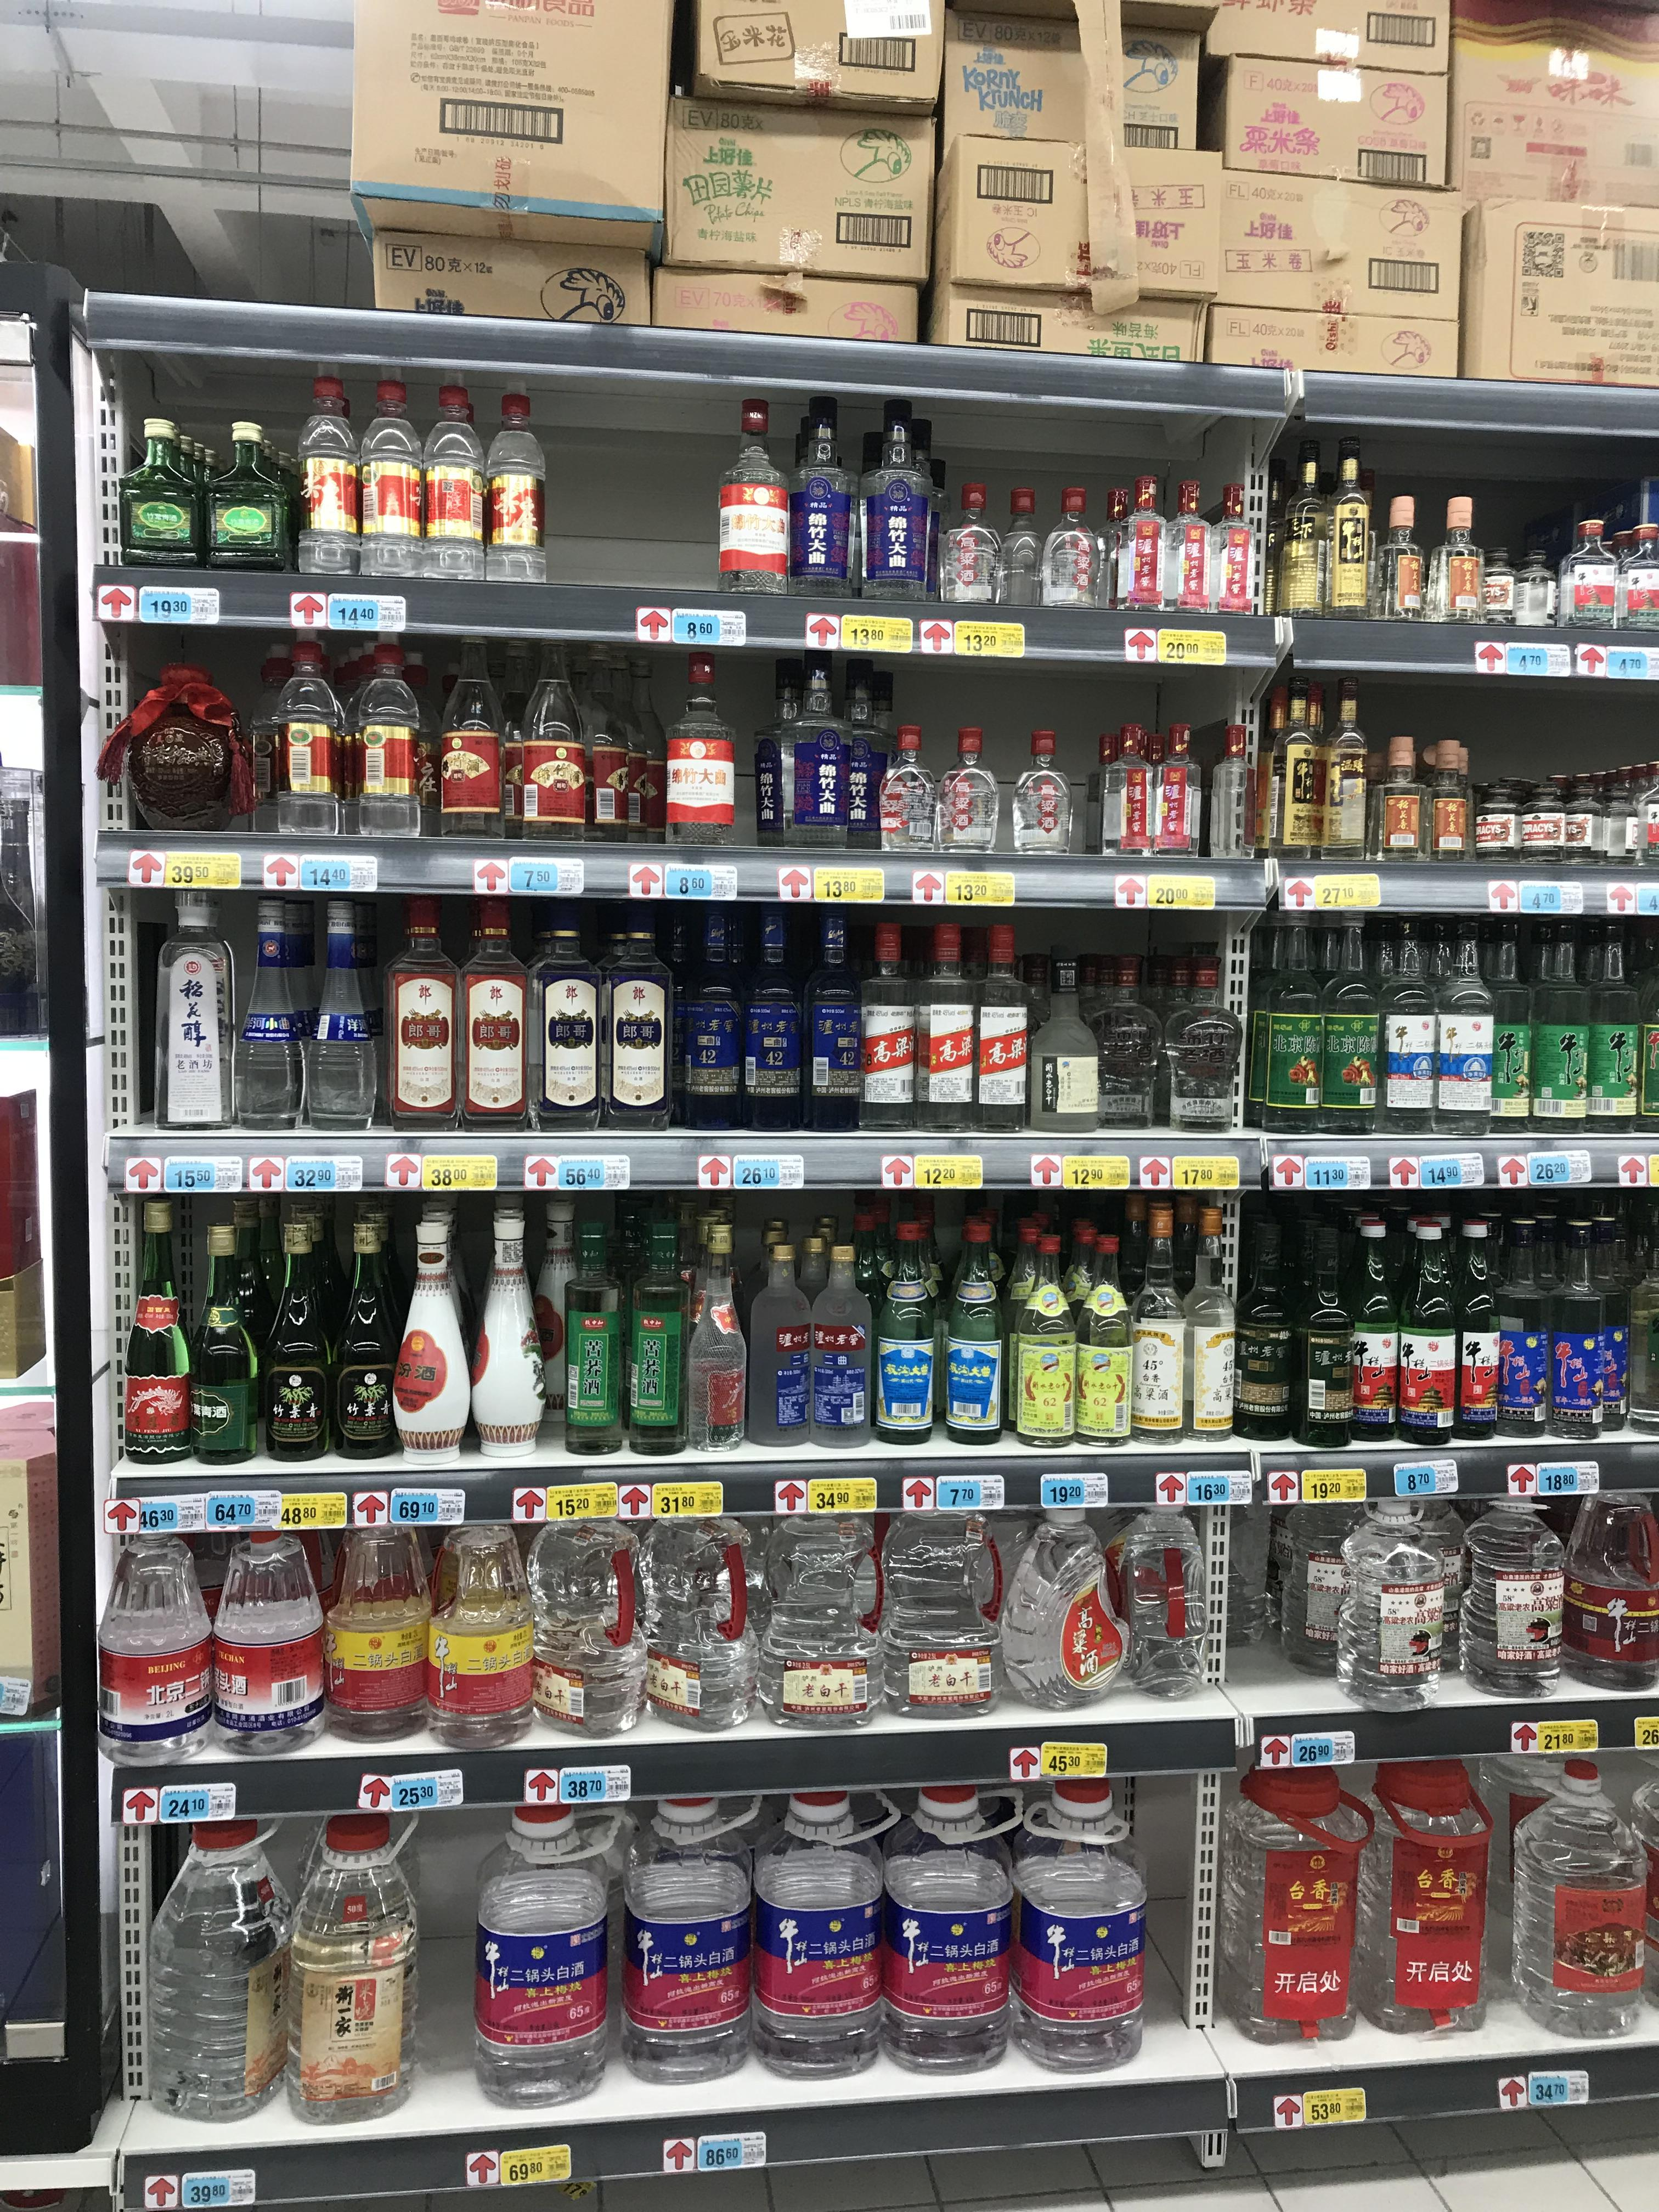bottle: (145, 1818, 289, 2121), (288, 1810, 413, 2125), (1514, 1749, 1649, 2036), (518, 1521, 647, 1745), (636, 1512, 763, 1731), (92, 1534, 209, 1768), (207, 1529, 321, 1759), (873, 1510, 997, 1719), (999, 1508, 1124, 1714), (115, 662, 263, 834), (1452, 1480, 1572, 1691), (1337, 1498, 1455, 1705), (765, 1517, 880, 1730), (420, 1526, 530, 1747), (322, 1526, 430, 1745), (105, 1200, 192, 1467), (1551, 1470, 1656, 1688), (256, 1211, 342, 1463), (153, 881, 240, 1129), (181, 1223, 267, 1468), (1117, 1507, 1220, 1702), (779, 1233, 875, 1442), (392, 1209, 469, 1470), (1244, 914, 1331, 1134), (329, 1214, 406, 1458), (467, 1207, 540, 1460), (380, 894, 457, 1134), (673, 885, 746, 1130), (345, 631, 432, 836), (458, 895, 533, 1134), (1570, 900, 1645, 1137), (1309, 902, 1384, 1136), (307, 895, 380, 1134), (993, 1223, 1072, 1444), (1514, 902, 1588, 1139), (739, 897, 810, 1136), (680, 1211, 749, 1449), (528, 904, 601, 1130), (662, 646, 741, 855), (624, 1221, 692, 1460), (599, 907, 671, 1132), (1467, 907, 1537, 1137), (1492, 1202, 1560, 1437), (1392, 1217, 1462, 1444), (1554, 1204, 1621, 1440), (240, 895, 307, 1130), (1432, 906, 1499, 1137), (748, 1237, 823, 1440), (936, 1221, 1004, 1446), (1230, 1211, 1297, 1440), (511, 639, 586, 841), (275, 632, 350, 834), (1371, 906, 1438, 1134), (870, 1217, 936, 1446), (565, 1209, 626, 1456), (1126, 1207, 1190, 1440), (1159, 967, 1248, 1136), (1061, 1226, 1129, 1444), (295, 373, 366, 578), (1176, 1200, 1237, 1440), (856, 401, 929, 601), (434, 634, 505, 838), (803, 900, 866, 1132), (1338, 1211, 1401, 1440), (716, 399, 788, 597), (1077, 958, 1159, 1130), (1443, 1217, 1506, 1440), (911, 920, 976, 1136), (579, 641, 647, 845), (962, 920, 1026, 1132), (204, 420, 293, 573), (854, 918, 917, 1134), (356, 380, 423, 578), (117, 418, 206, 570), (779, 660, 849, 850), (1297, 1202, 1351, 1446), (418, 383, 484, 578), (1256, 674, 1324, 859), (789, 395, 849, 594), (1270, 441, 1335, 618), (1030, 946, 1091, 1132), (483, 394, 542, 575), (849, 660, 903, 846), (1323, 437, 1375, 620), (1310, 698, 1366, 862), (1549, 516, 1622, 637), (1009, 732, 1077, 853), (934, 486, 1000, 610), (1115, 474, 1175, 611), (1096, 725, 1155, 862), (878, 721, 936, 855), (938, 728, 997, 857), (1425, 495, 1485, 624), (1143, 723, 1199, 857), (1042, 482, 1100, 610), (1605, 502, 1657, 641), (1208, 714, 1258, 857), (1215, 481, 1265, 613), (1419, 747, 1471, 867), (1370, 498, 1419, 620), (1004, 486, 1047, 611), (1499, 538, 1553, 637), (1371, 747, 1417, 864)
box: (927, 280, 1213, 368), (650, 260, 925, 347), (1168, 477, 1218, 615)
bucket: (467, 1803, 613, 2109), (1006, 1773, 1145, 2076), (744, 1796, 885, 2081), (1352, 1761, 1493, 2040), (1218, 1770, 1363, 2041), (619, 1799, 753, 2090), (878, 1789, 1014, 2074)
jar: (1270, 1491, 1375, 1677), (1467, 782, 1525, 864), (1544, 782, 1600, 864), (1527, 782, 1577, 864)
others: (343, 0, 667, 226), (653, 98, 943, 279), (915, 145, 1234, 298), (1213, 167, 1492, 324), (941, 0, 1204, 160), (354, 200, 653, 333), (1450, 3, 1657, 192), (1223, 35, 1462, 186), (1466, 190, 1659, 374), (664, 0, 953, 105)
